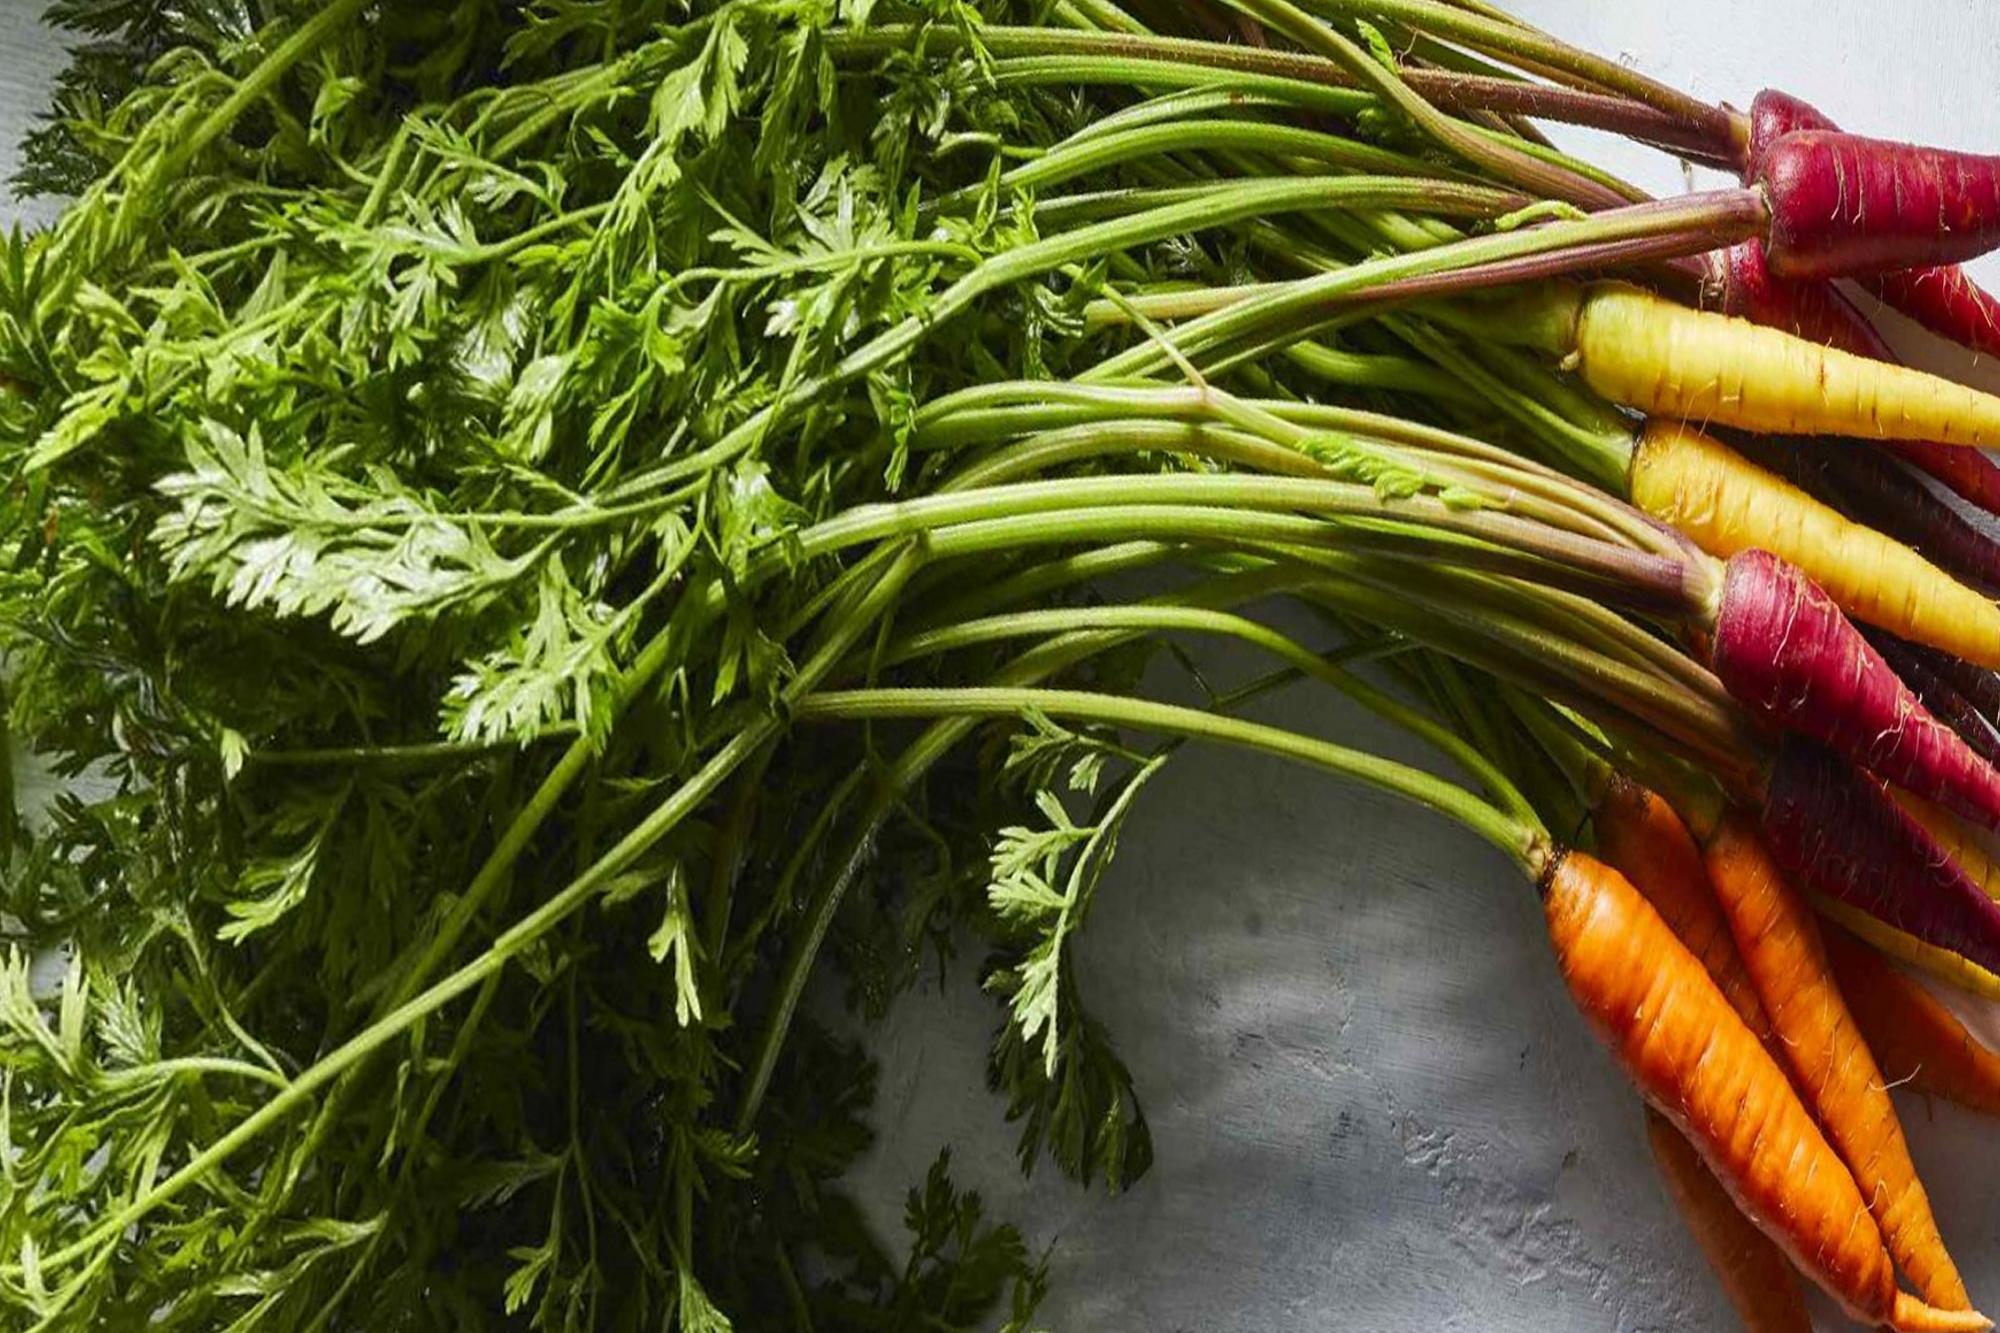carrot: (1480, 791, 1964, 1333), (1596, 289, 2000, 635)
